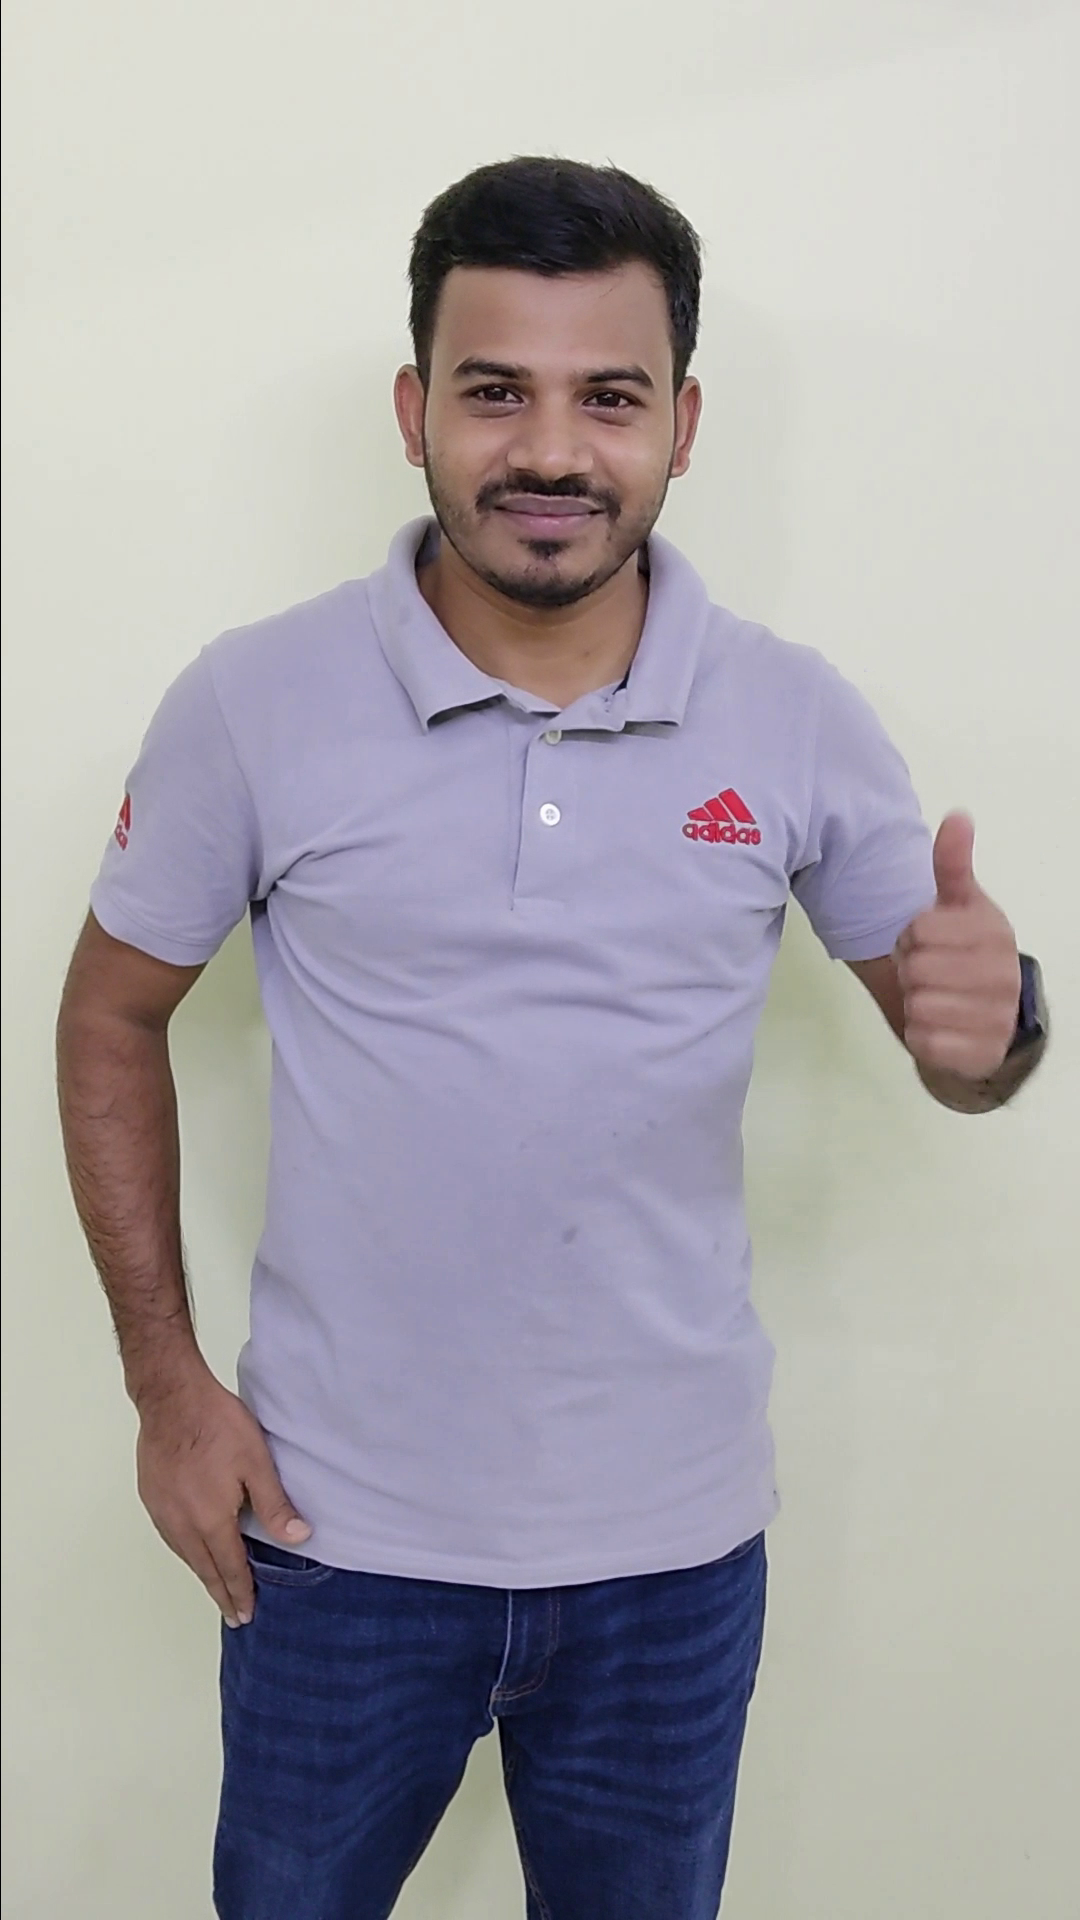Like: (831, 786, 1058, 1112)
None: (94, 1358, 316, 1648)
